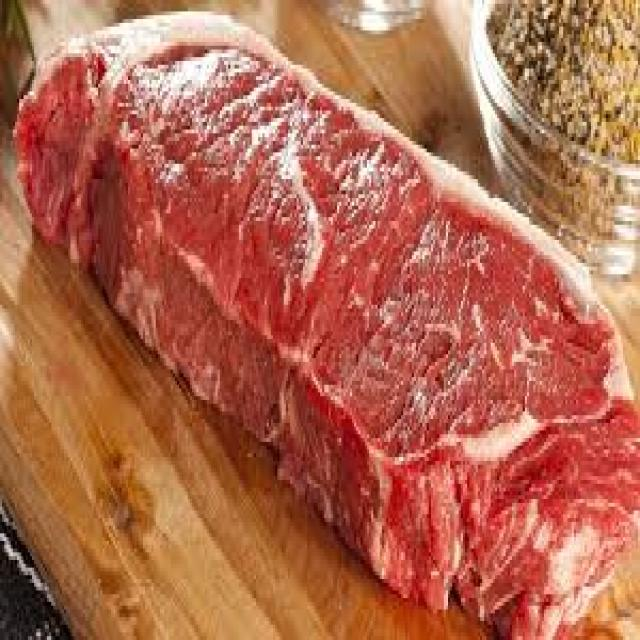beef: (19, 15, 640, 640)
